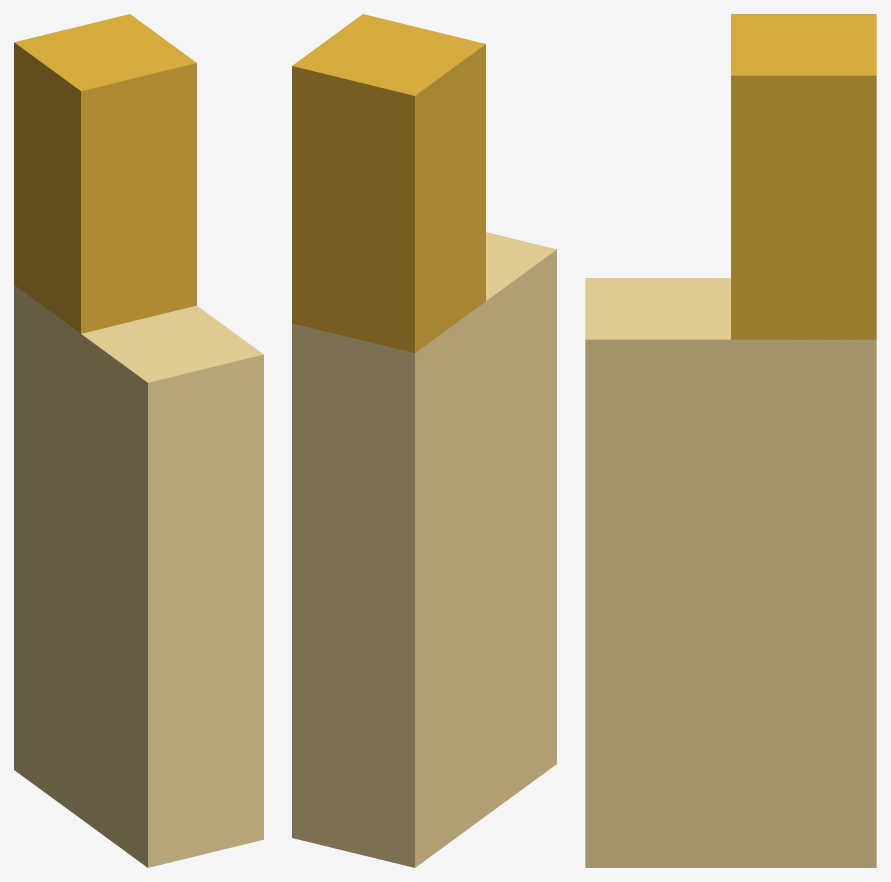
File: right_hand_attack.fbx
3 views of the same model, side by side, from view 1: azimuth 30°, elevation 25°; view 2: azimuth 150°, elevation 25°; view 3: azimuth 270°, elevation 25° (orthographic). The views are drawn at different scales.
Parts seen in each view (by area): view 1: hand_right_1.001, hand_right.003; view 2: hand_right.003, hand_right_1.001; view 3: hand_right_1.001, hand_right.003.
Boxes of the visible parts, x1,y1,x2,y2 form: hand_right_1.001: (14,43,263,867); hand_right.003: (14,14,196,818); hand_right.003: (292,14,485,867); hand_right_1.001: (292,45,556,815); hand_right_1.001: (585,75,876,867); hand_right.003: (731,14,876,867).
Bounding box in the file's own units: 1 × 6 × 2.
